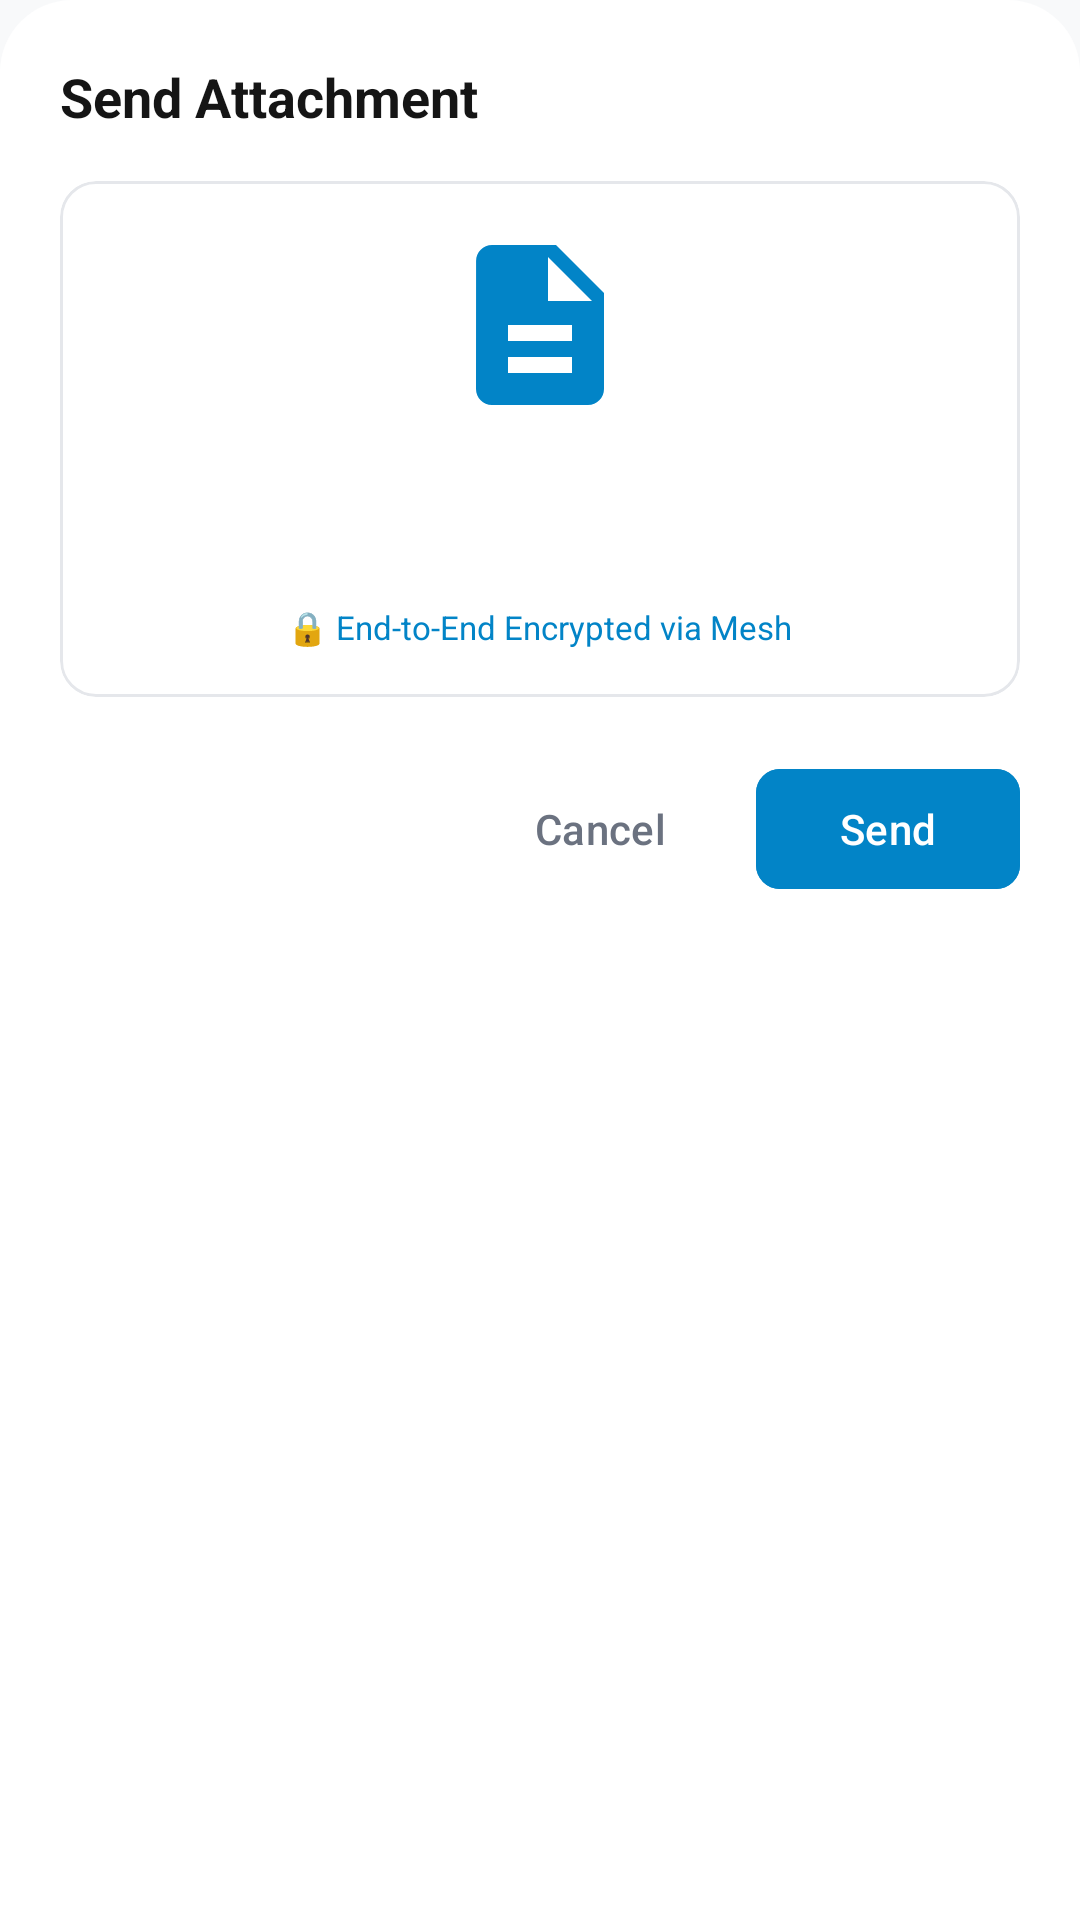

Icon click points for this 1080 × 1920 phone screenshot, format point (x, y):
document: point (540, 325)
